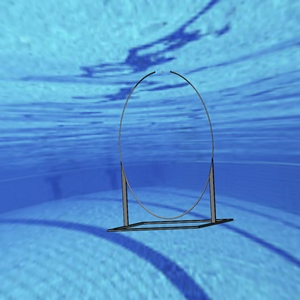circle: (106, 70, 234, 231)
